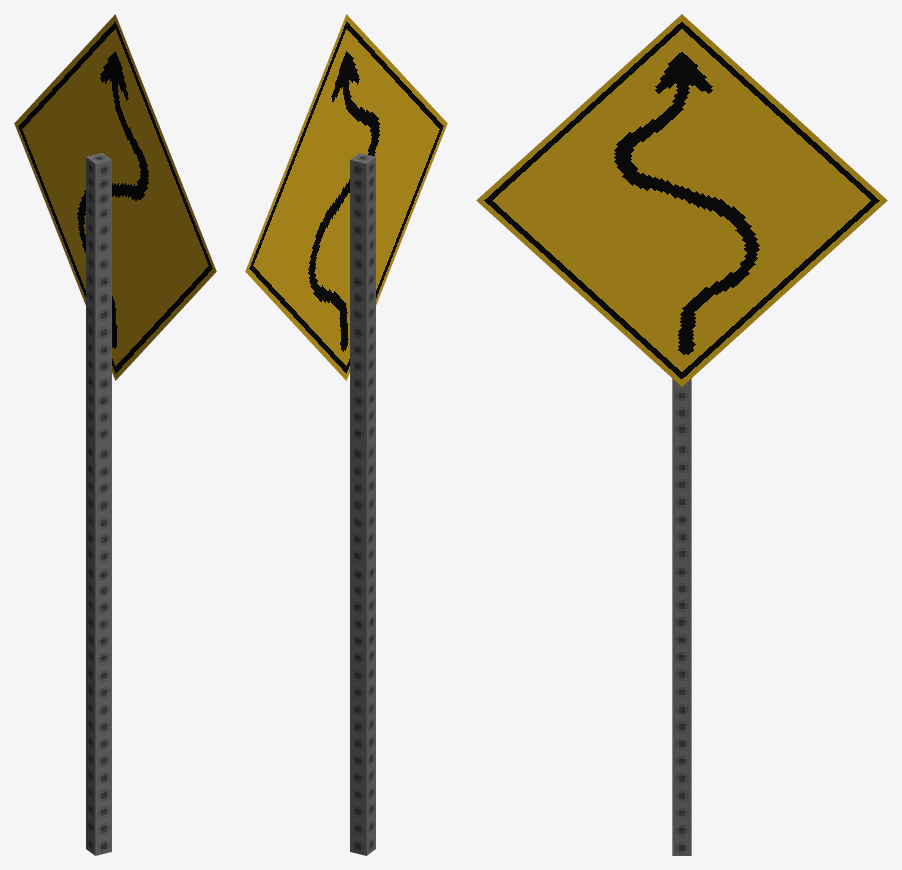
The model's file is sign1.glb.
3 views of the same model, side by side, from view 1: azimuth 30°, elevation 25°; view 2: azimuth 150°, elevation 25°; view 3: azimuth 270°, elevation 25° (orthographic).
Parts seen in each view (by area): view 1: Plane, Cube.001; view 2: Plane, Cube.001; view 3: Plane, Cube.001.
Boxes of the visible parts, bbox=[...] form: Plane: bbox=[14, 14, 216, 380]; Cube.001: bbox=[86, 153, 111, 855]; Plane: bbox=[245, 14, 447, 380]; Cube.001: bbox=[350, 153, 375, 855]; Plane: bbox=[476, 14, 887, 386]; Cube.001: bbox=[672, 378, 691, 855].
Bounding box in the file's own units: 0.075 × 2.41 × 1.06.
1 material, 1 textured.
